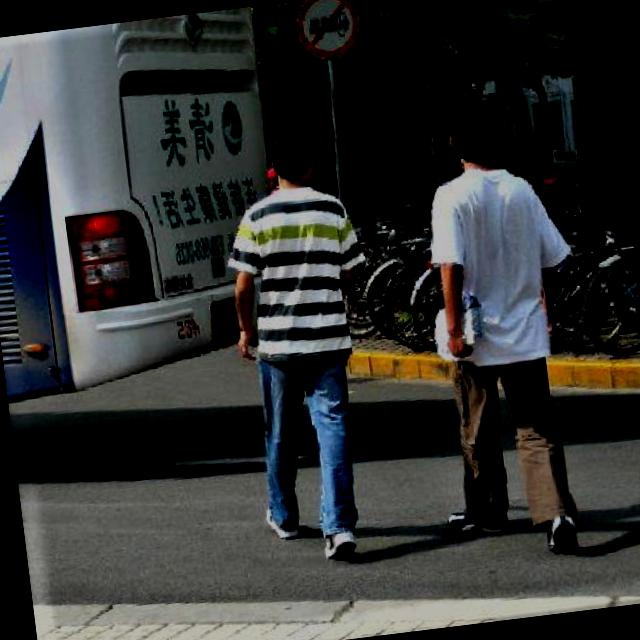Person: (393, 87, 601, 558), (209, 120, 392, 570)
